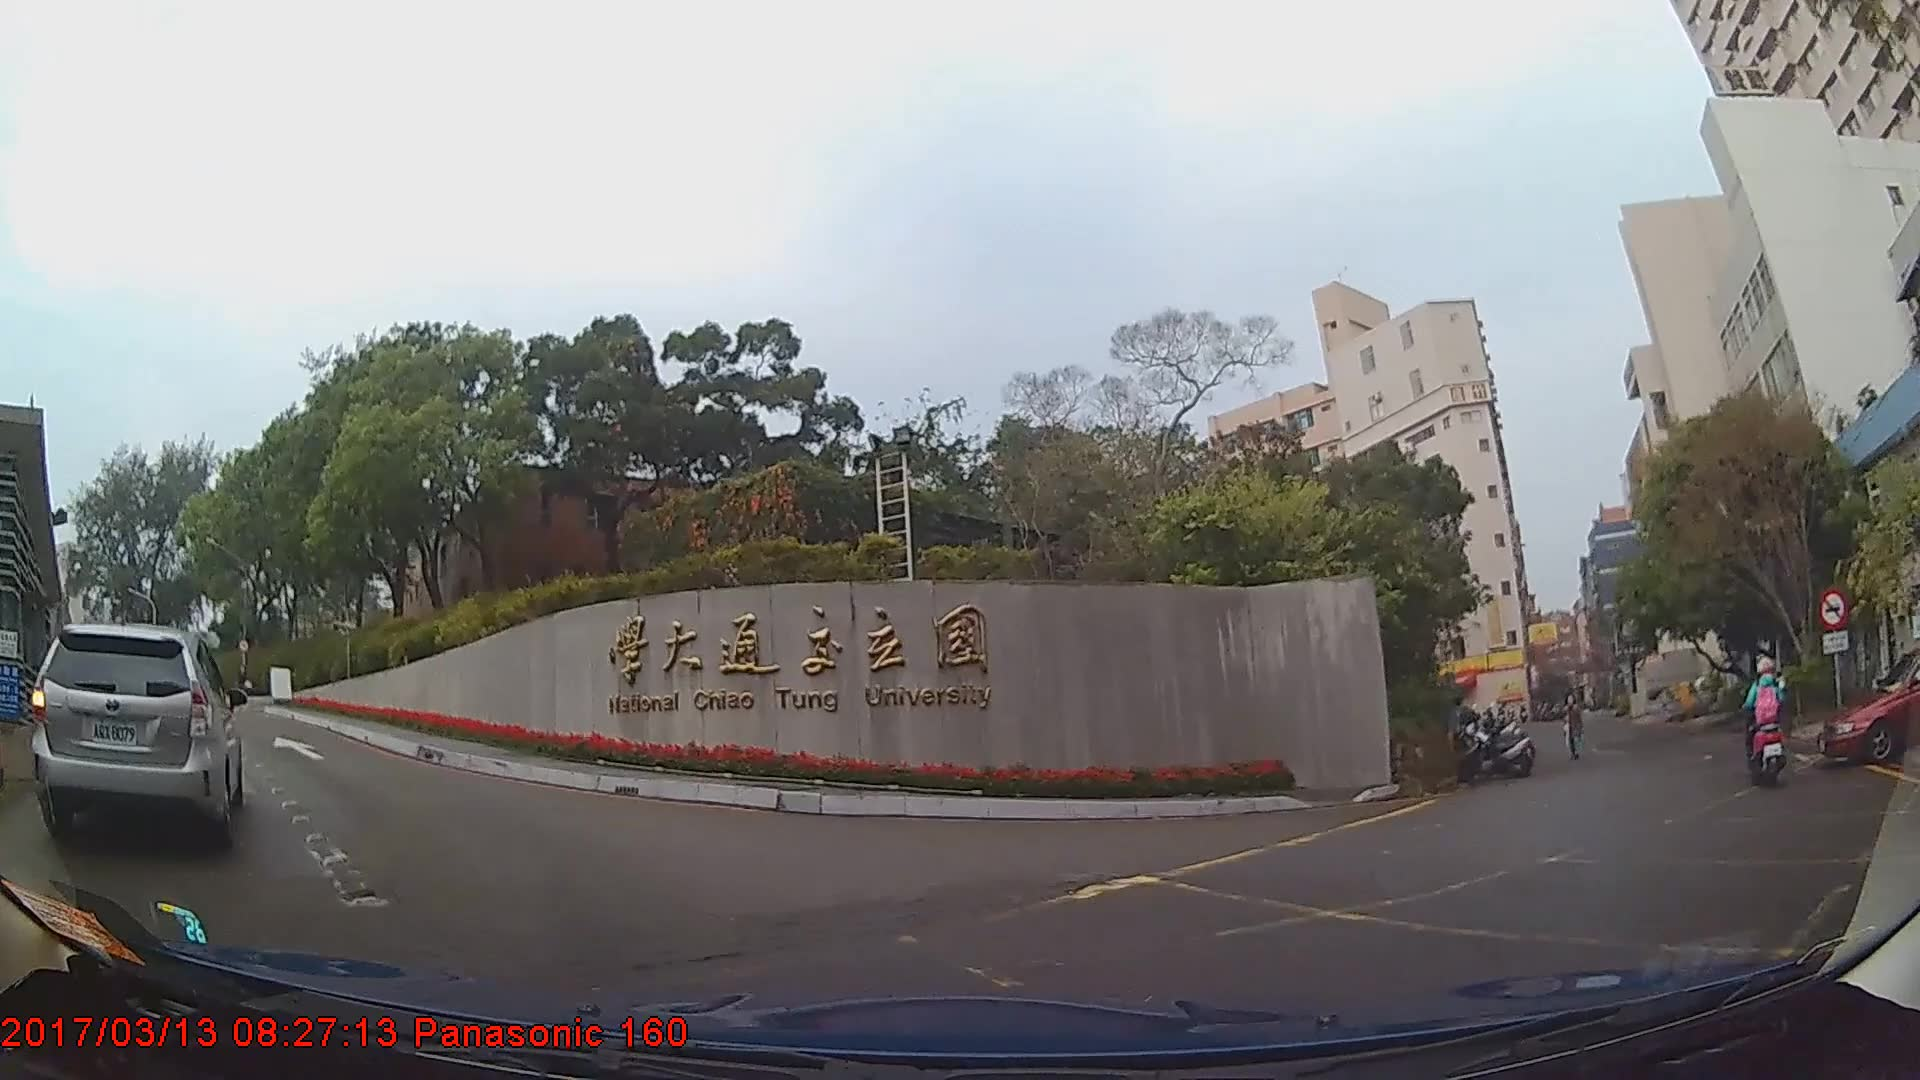pedestrian: (1562, 696, 1585, 759)
rider: (1746, 657, 1792, 791)
vehicle: (30, 625, 242, 853), (1818, 649, 1920, 764)
